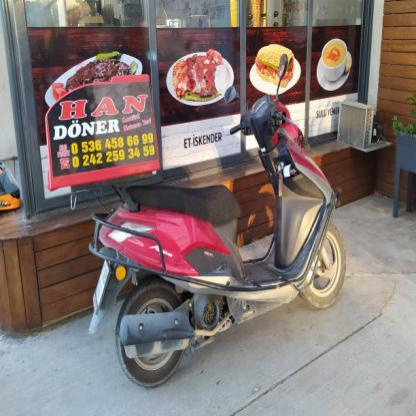Motorcycle: (92, 58, 351, 392)
